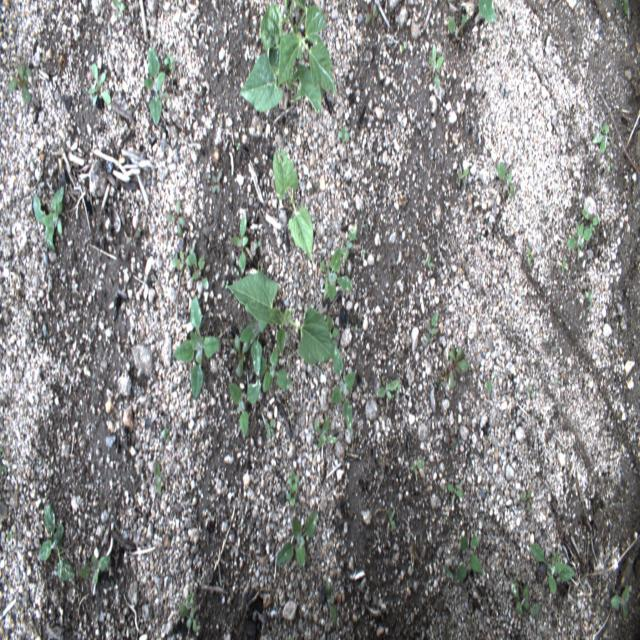crop: (239, 0, 336, 114), (226, 270, 337, 363), (272, 146, 313, 262)
weed: (172, 293, 221, 398), (37, 503, 74, 580), (277, 508, 318, 569), (529, 542, 576, 594), (330, 341, 354, 433), (32, 186, 64, 252), (238, 317, 271, 379), (320, 246, 354, 304), (229, 380, 262, 438), (143, 44, 165, 124), (253, 348, 292, 392), (455, 532, 484, 584), (508, 576, 541, 618), (231, 209, 249, 277), (564, 220, 593, 262), (87, 64, 112, 108), (8, 61, 34, 103), (448, 346, 470, 392), (189, 247, 209, 292), (80, 554, 110, 584), (165, 197, 186, 239), (608, 582, 630, 621), (314, 416, 339, 449), (590, 122, 614, 155), (234, 333, 251, 379), (428, 44, 443, 92), (179, 600, 200, 632), (498, 160, 514, 201), (448, 13, 469, 42), (339, 226, 356, 261), (374, 379, 399, 401), (170, 249, 194, 270), (424, 310, 438, 346), (446, 480, 464, 507), (455, 162, 470, 192), (478, 0, 496, 24), (210, 167, 224, 197), (420, 251, 436, 276), (152, 460, 162, 498), (520, 488, 534, 512), (338, 122, 352, 146), (385, 505, 396, 533), (407, 459, 425, 472)
